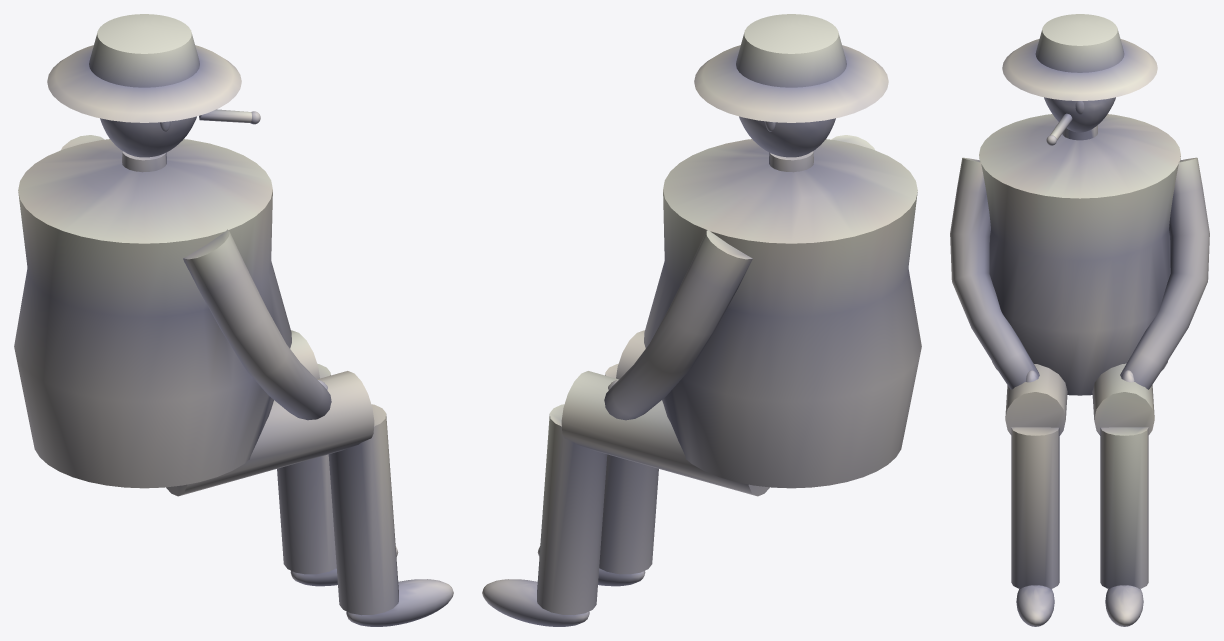
File: sahukar.glb
The picture shows the model from 3 angles, left to right: view 1: azimuth 30°, elevation 25°; view 2: azimuth 150°, elevation 25°; view 3: azimuth 270°, elevation 25°; orthographic projection. The views are drawn at different scales.
Parts seen in each view (by area): view 1: body; view 2: body; view 3: body.
Boxes of the visible parts, bbox=[...] form: body: bbox=[14, 14, 453, 626]; body: bbox=[482, 14, 921, 626]; body: bbox=[950, 14, 1209, 626].
Bounding box in the file's own units: 0.898 × 1.38 × 0.6431.
